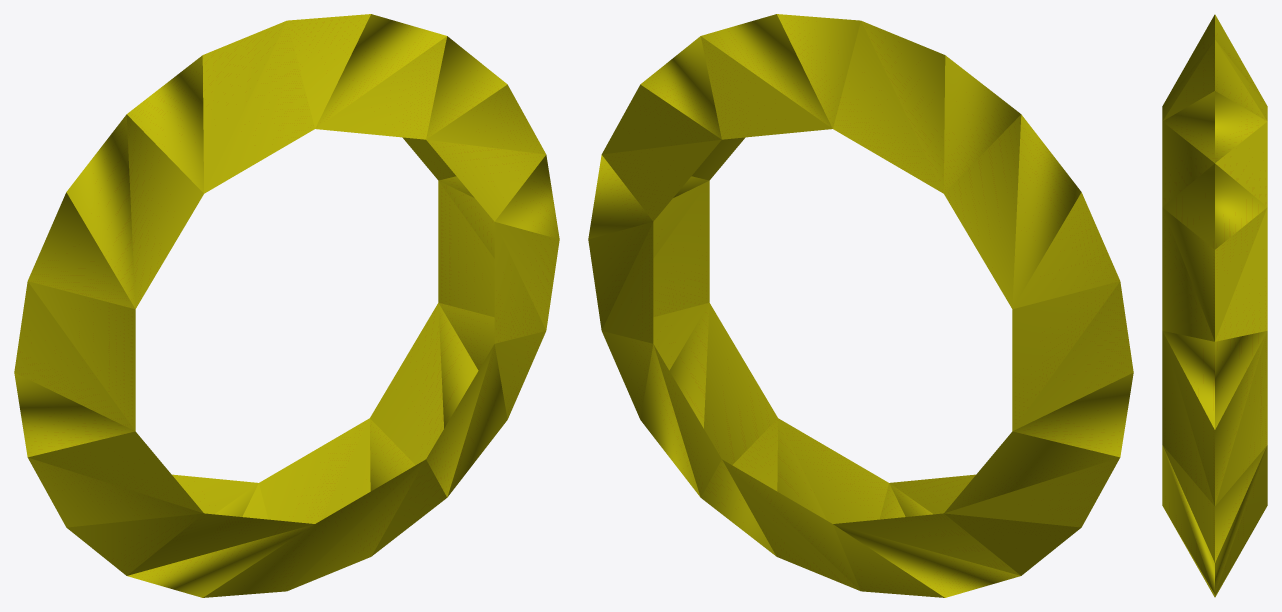
The model's file is ring.glb.
The picture shows the model from 3 angles, left to right: view 1: azimuth 30°, elevation 25°; view 2: azimuth 150°, elevation 25°; view 3: azimuth 270°, elevation 25°; orthographic projection. The views are drawn at different scales.
Parts seen in each view (by area): view 1: ring; view 2: ring; view 3: ring.
Boxes of the visible parts, x1,y1,x2,y2 form: ring: (14,14,559,597); ring: (588,14,1133,597); ring: (1162,14,1267,597).
Size of the model in its own units: 1.22 by 1.22 by 0.217.
Materials: 1 (1 with a texture image).
